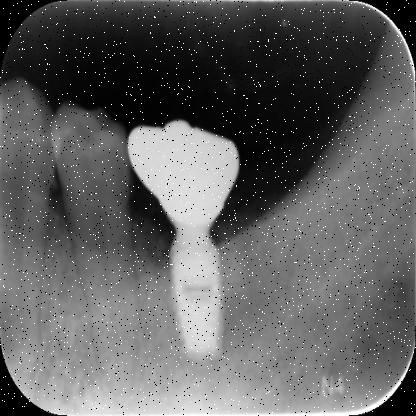Bicon: (168, 222, 224, 365)
